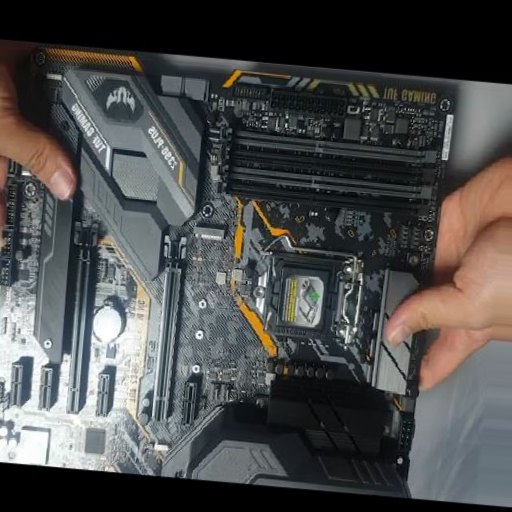CPU: (251, 254, 363, 345)
GPU: (66, 221, 101, 414), (155, 236, 191, 421)
MOTHERBOARD: (1, 71, 454, 495)
RAM: (216, 127, 436, 218)
SSD: (191, 222, 227, 242)
